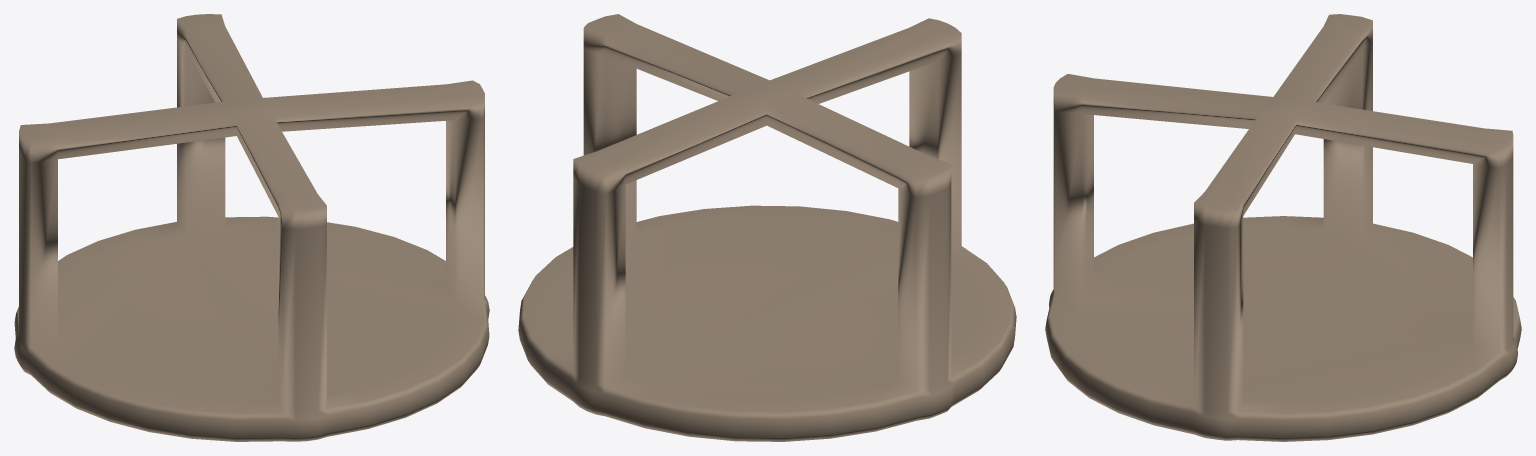
Rendered from Contemporary_Livingroom_RoundTable.fbx.
3 renders of one model, left to right at view 1: azimuth 30°, elevation 25°; view 2: azimuth 150°, elevation 25°; view 3: azimuth 270°, elevation 25°, orthographic. The views are drawn at different scales.
Visible parts, largest first — view 1: Contemporary_Livingroom_Round Table; view 2: Contemporary_Livingroom_Round Table; view 3: Contemporary_Livingroom_Round Table.
Boxes of the visible parts, box(x1,y1,x2,y2) form: Contemporary_Livingroom_Round Table: box(14, 14, 489, 441); Contemporary_Livingroom_Round Table: box(518, 14, 1016, 441); Contemporary_Livingroom_Round Table: box(1045, 14, 1521, 441).
Bounding box in the file's own units: 488 × 267 × 488.
